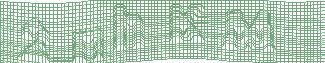2: (18, 18, 52, 63)
M: (222, 7, 276, 55)
h: (111, 2, 145, 53)
k: (167, 1, 207, 45)
n: (70, 27, 104, 63)
